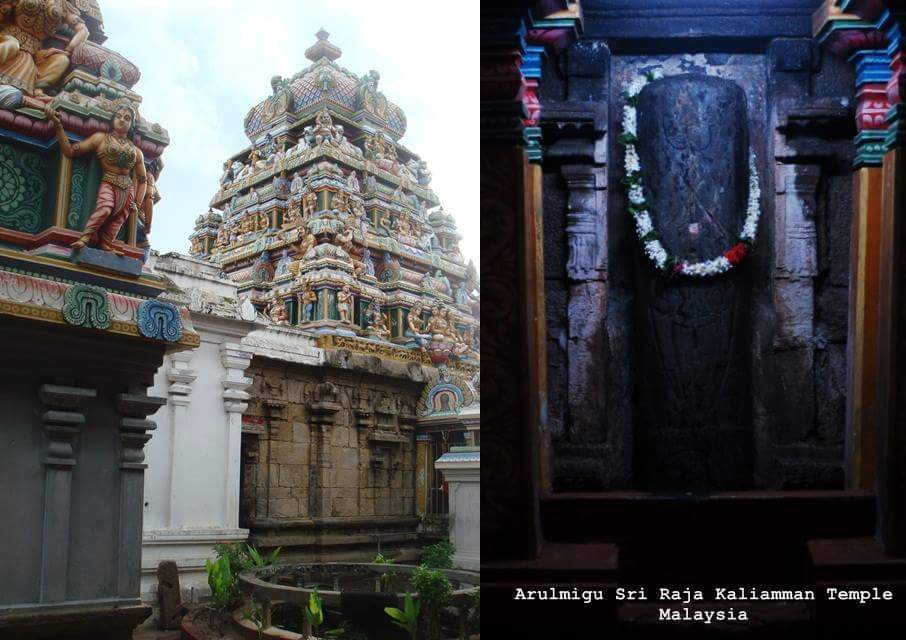Hindu Temple: (183, 31, 477, 525)
